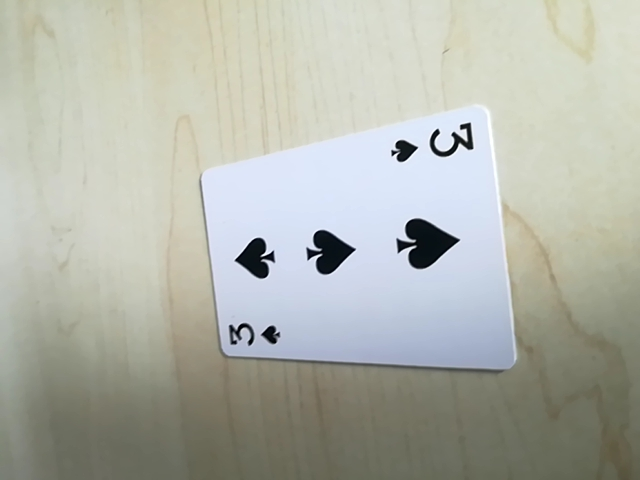ht 3: (387, 119, 481, 169), (219, 316, 287, 356)
